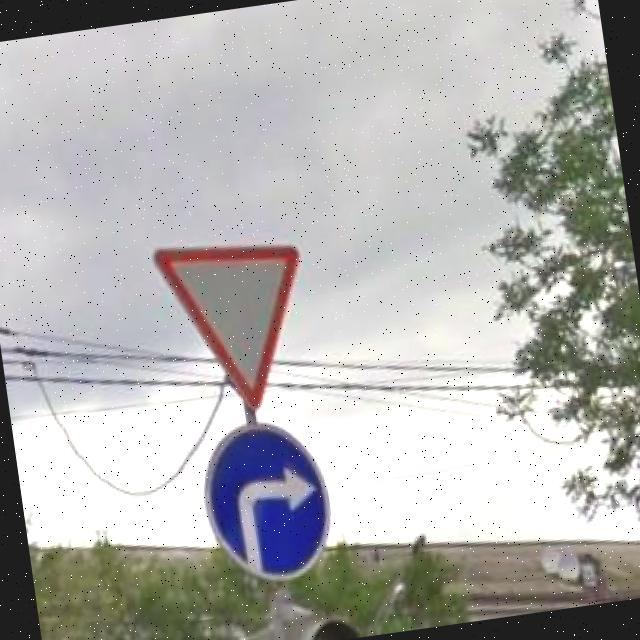Ustap pierwszenstwa: (150, 228, 324, 422)
